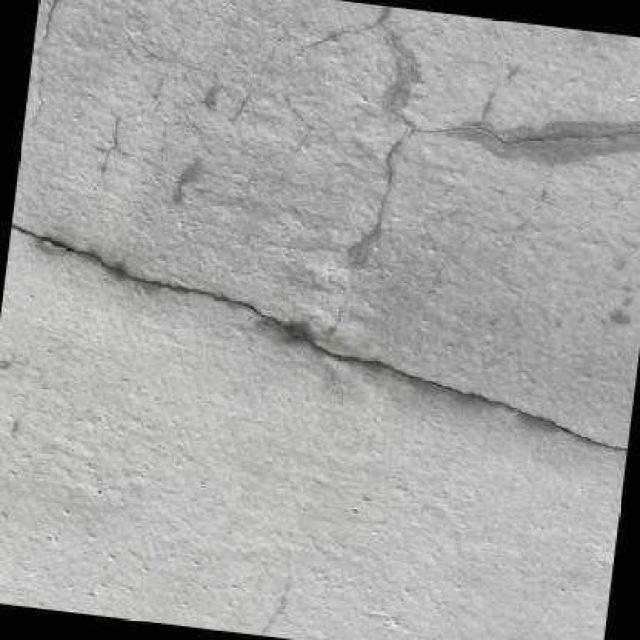D00: (9, 224, 627, 450)
